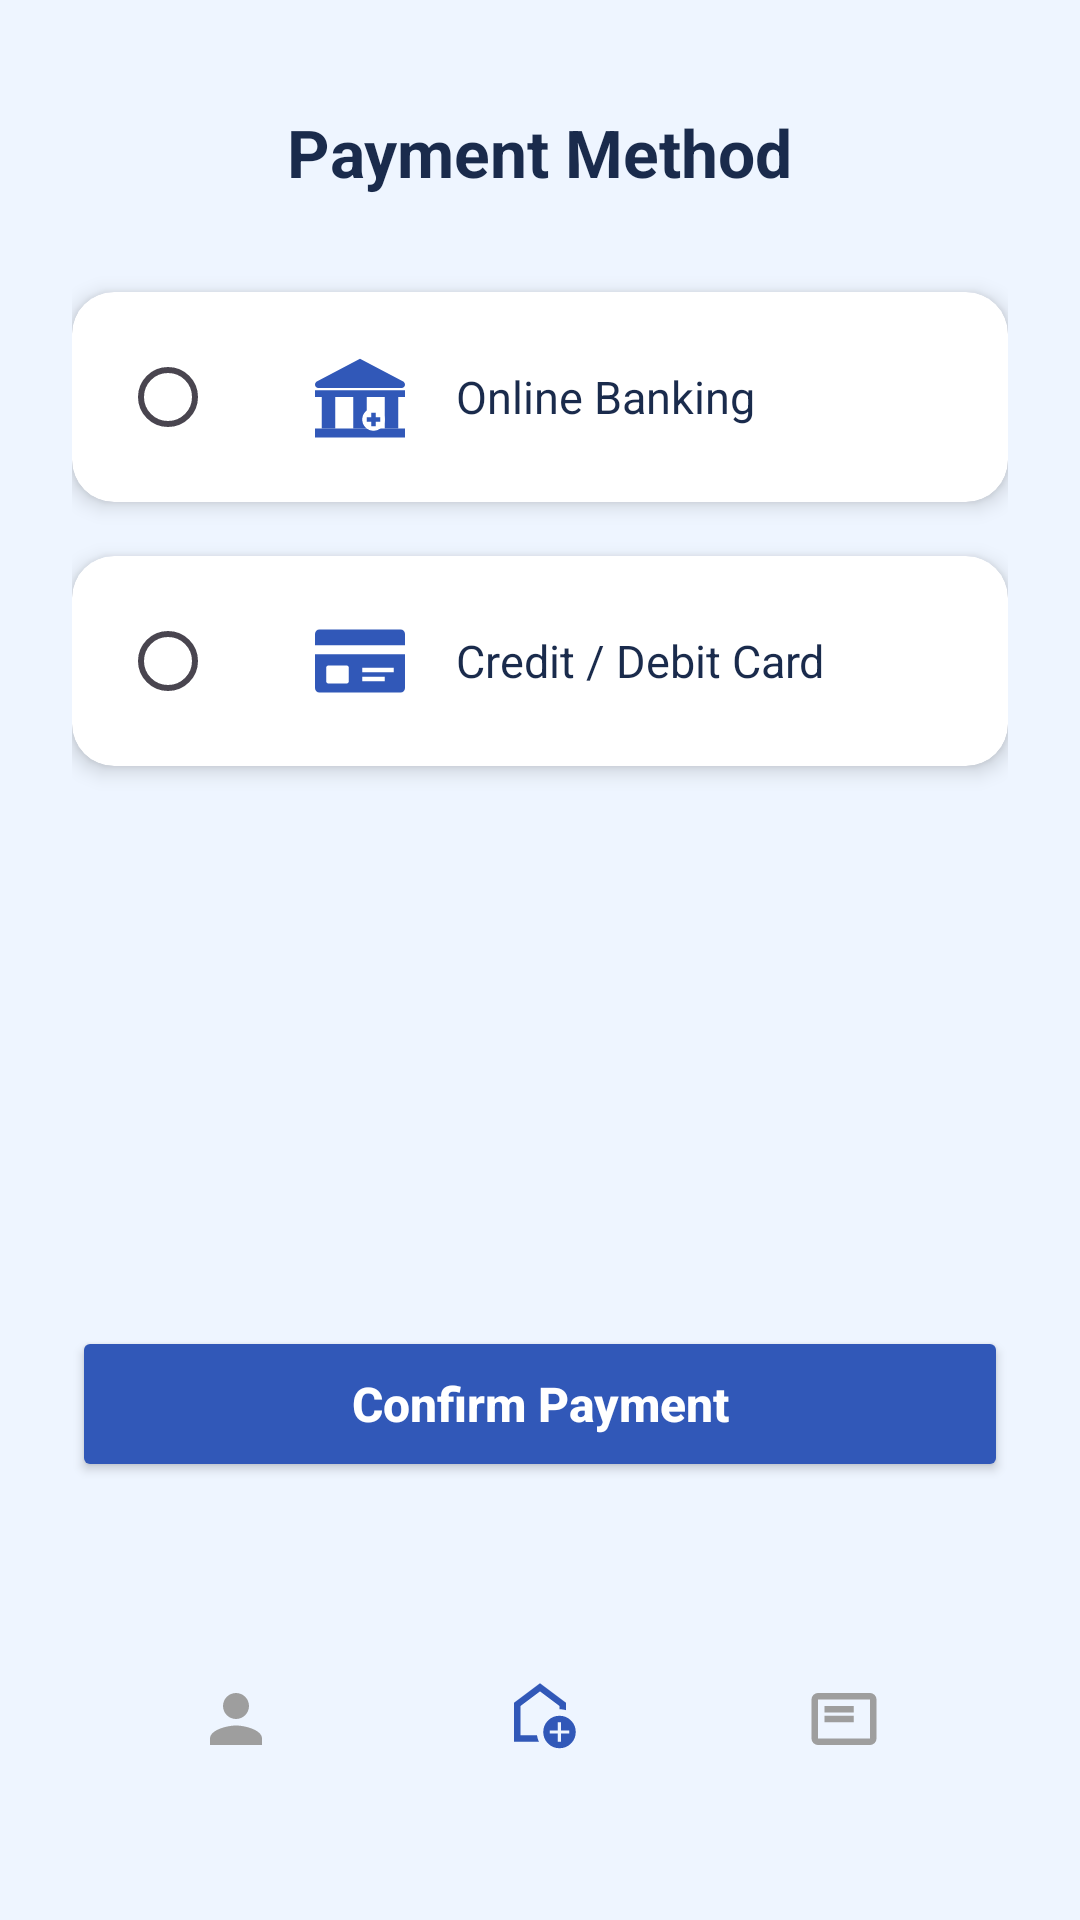

Screen size 1080px×1920px. Icon name, then its box in pixels as (x1, y1, x2, y2):
Credit or Debit Card: (315, 629, 405, 693)
home: (514, 1683, 576, 1749)
person: (210, 1693, 262, 1745)
